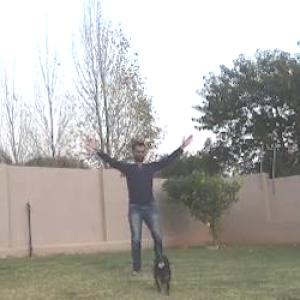takeoff: (84, 136, 191, 268)
